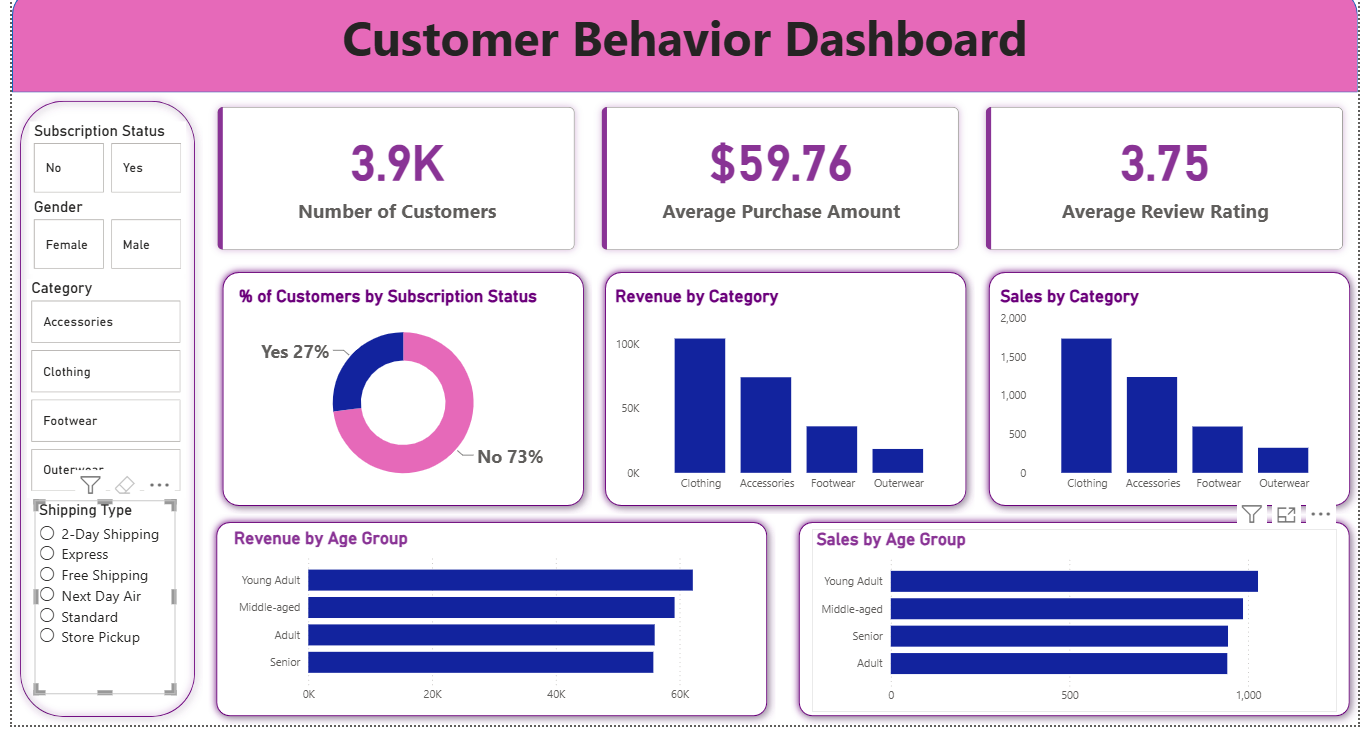

What the dashboard file says about the page in this screenshot:
{"tool":"powerbi","page":{"name":"Page 1","canvas":[1500,820],"ordinal":0},"visuals":[{"type":"cardVisual","fields":{"Data":["public customer.Number of Customers","public customer.Average Purchase Amount","public customer.Average Review Rating"]},"box":[212.9,115.3,1286.5,191.6],"z":2000},{"type":"shape","box":[218.3,585.6,631.7,234.2],"z":2500,"group":"g1"},{"type":"shape","box":[0,0,1499.4,115.3],"z":3000},{"type":"textbox","box":[0,12.4,1499.4,102.9],"z":4000},{"type":"shape","box":[225.4,307,420.5,278.6],"z":5000},{"type":"donutChart","title":"% of Customers by Subscription Status","fields":{"Category":["public customer.subscription_status"],"Y":["CountNonNull(public customer.customer_id)"]},"box":[248.4,331.8,376.2,237.8],"z":6000},{"type":"shape","box":[1078.9,307,420.5,278.6],"z":7000},{"type":"shape","box":[652.1,307,420.5,278.6],"z":8000},{"type":"clusteredColumnChart","title":"Revenue by Category","fields":{"Y":["Sum(public customer.purchase_amount)"],"Category":["public customer.category"]},"box":[667.2,331.8,385.1,237.8],"z":9000},{"type":"clusteredColumnChart","title":"Sales by Category","fields":{"Y":["CountNonNull(public customer.customer_id)"],"Category":["public customer.category"]},"box":[1096.6,331.8,385.1,237.8],"z":10000},{"type":"shape","box":[0,115.3,212.9,704.5],"z":11000},{"type":"advancedSlicerVisual","fields":{"Values":["public customer.subscription_status"]},"box":[19.5,161.5,173.9,85.2],"z":12000},{"type":"advancedSlicerVisual","fields":{"Values":["public customer.gender"]},"box":[19.5,264.4,173.9,85.2],"z":13000},{"type":"advancedSlicerVisual","fields":{"Values":["public customer.category"]},"box":[16.7,369.1,179.7,215.9],"z":14000},{"type":"listSlicer","fields":{"Values":["public customer.shipping_type"]},"box":[20.9,601.6,168.5,195],"z":15000},{"type":"shape","box":[867.7,585.6,631.7,234.2],"z":16000},{"type":"clusteredBarChart","title":"Sales by Age Group","fields":{"Y":["CountNonNull(public customer.customer_id)"],"Category":["public customer.age_group"]},"box":[890.8,601.5,585.6,204.1],"z":17000},{"type":"clusteredBarChart","title":"Revenue by Age Group","fields":{"Y":["Sum(public customer.purchase_amount)"],"Category":["public customer.age_group"]},"box":[241.4,601.6,585.6,204.1],"z":17500,"group":"g1"},{"type":"group","id":"g1","title":"Group 1","box":[218.3,585.6,631.7,234.2],"z":17501}]}

Visuals, with their boxes in screenshot pixels (x1, y1, x2, y2), scaled from the page's 1500x820 canvas onto the 1368x732 screenshot:
cardVisual - public customer.Number of Customers x public customer.Average Purchase Amount: 194,103,1367,274
shape: 199,523,775,731
shape: 0,0,1367,103
textbox: 0,11,1367,103
shape: 206,274,589,523
"% of Customers by Subscription Status" donutChart: 227,296,570,508
shape: 984,274,1367,523
shape: 595,274,978,523
"Revenue by Category" clusteredColumnChart: 608,296,960,508
"Sales by Category" clusteredColumnChart: 1000,296,1351,508
shape: 0,103,194,731
advancedSlicerVisual - public customer.subscription_status: 18,144,176,220
advancedSlicerVisual - public customer.gender: 18,236,176,312
advancedSlicerVisual - public customer.category: 15,329,179,522
listSlicer - public customer.shipping_type: 19,537,173,711
shape: 791,523,1367,731
"Sales by Age Group" clusteredBarChart: 812,537,1346,719
"Revenue by Age Group" clusteredBarChart: 220,537,754,719
"Group 1" group: 199,523,775,731
